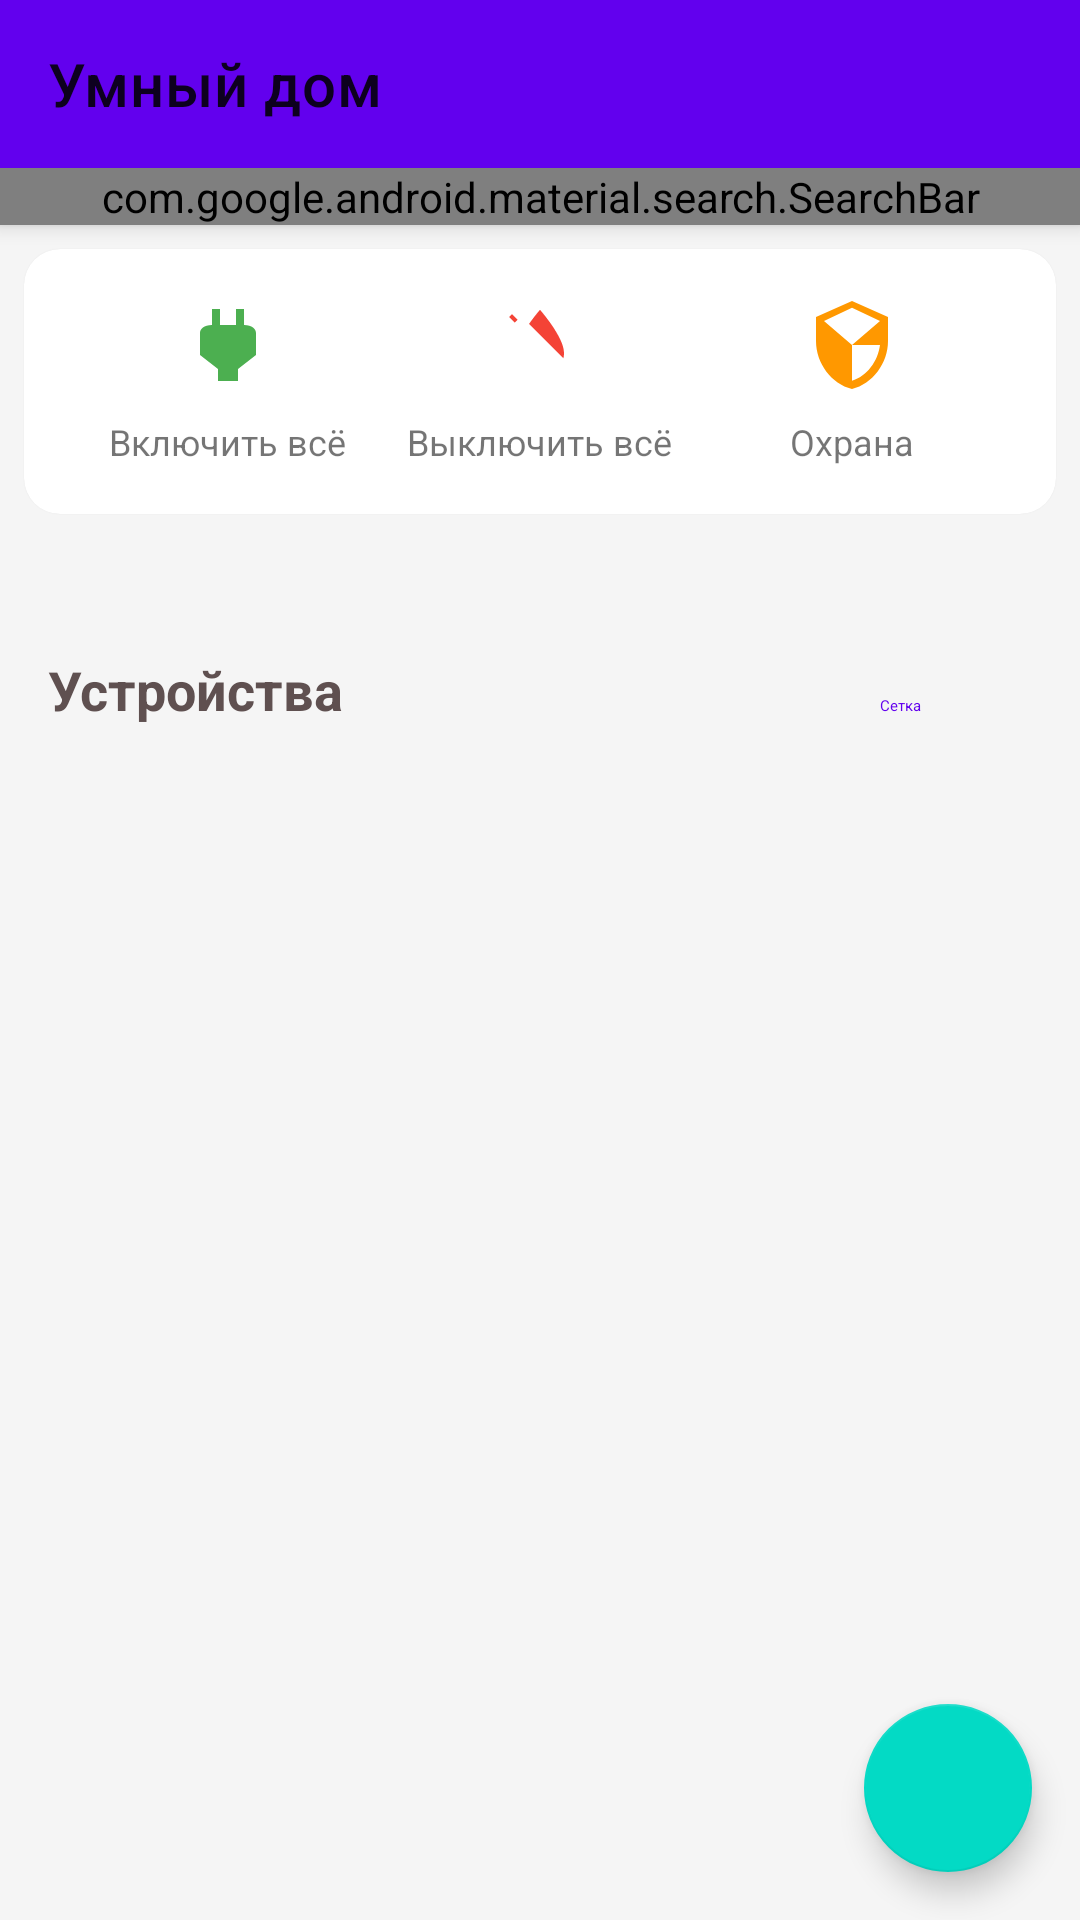

Locate icon controls on the screen. Image size 1080*1920, boxes as (x1, y1, x2, y2).
power: (200, 309, 256, 381)
